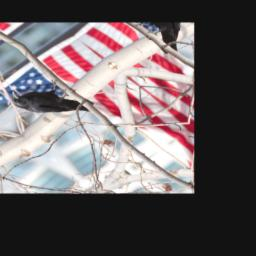Crow: (3, 69, 98, 137)
